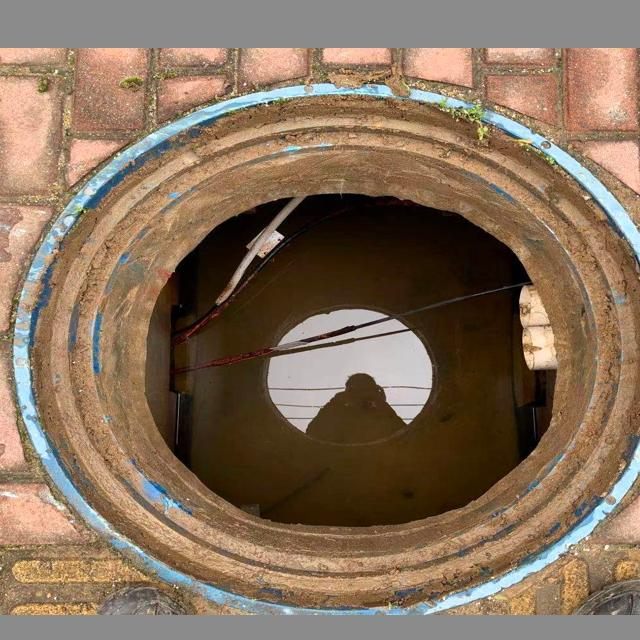lose: (13, 81, 640, 615)
